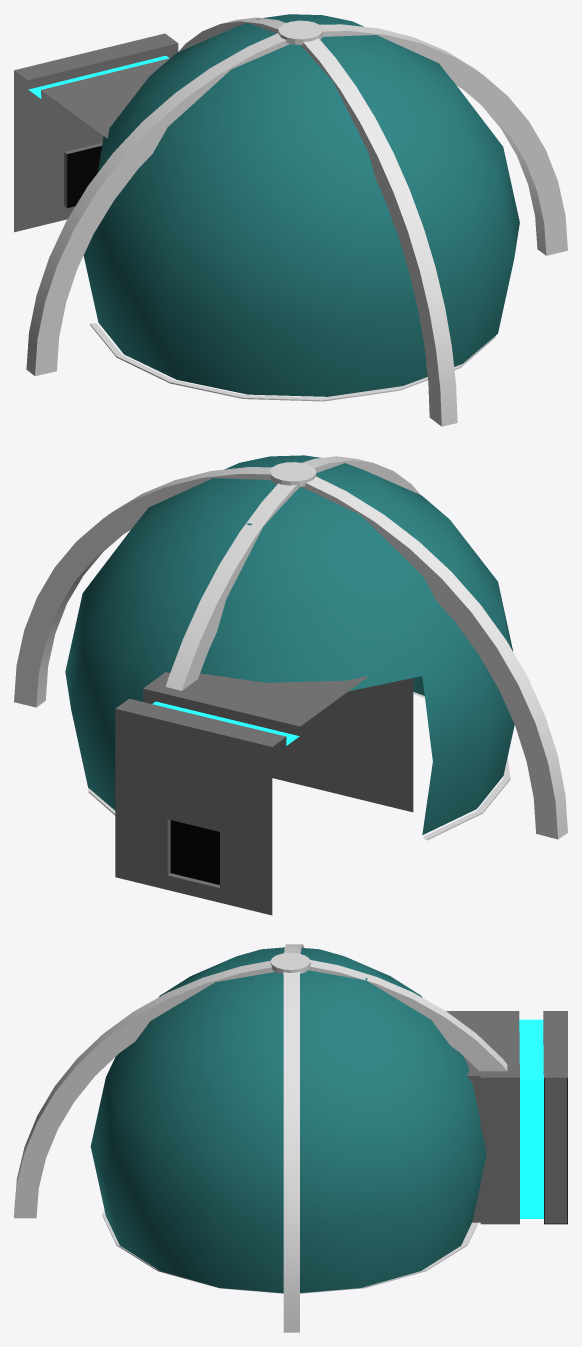
Rendered from HousePhase2.fbx.
3 renders of one model, top to bottom at view 1: azimuth 30°, elevation 25°; view 2: azimuth 150°, elevation 25°; view 3: azimuth 270°, elevation 25°, orthographic. The views are drawn at different scales.
Parts seen in each view (by area): view 1: Sphere001, Box001, Box004, Box003, Box002, Cylinder001, Box005, Cylinder002; view 2: Sphere001, Box001, Box004, Box002, Box005, Box003, Cylinder001, Cylinder002; view 3: Sphere001, Box001, Box003, Box002, Box005, Cylinder001, Cylinder002.
Boxes of the visible parts, box(x1,y1,x2,y2) form: Sphere001: box(83, 14, 519, 396); Box001: box(14, 33, 178, 232); Box004: box(26, 33, 289, 375); Box003: box(301, 38, 457, 426); Box002: box(319, 24, 567, 255); Cylinder001: box(90, 323, 495, 401); Box005: box(179, 17, 285, 51); Cylinder002: box(278, 20, 322, 44); Sphere001: box(65, 455, 514, 834); Box001: box(115, 672, 413, 915); Box004: box(301, 476, 567, 839); Box002: box(14, 467, 271, 707); Box005: box(165, 483, 299, 690); Box003: box(302, 456, 420, 494); Cylinder001: box(88, 692, 510, 840); Cylinder002: box(270, 462, 316, 487); Sphere001: box(90, 947, 486, 1293); Box001: box(446, 1011, 567, 1224); Box003: box(14, 960, 274, 1218); Box002: box(283, 971, 299, 1332); Box005: box(309, 960, 507, 1071); Cylinder001: box(102, 1210, 477, 1293); Cylinder002: box(270, 952, 310, 974).
Bounding box in the file's own units: 105 × 105 × 53.68.
